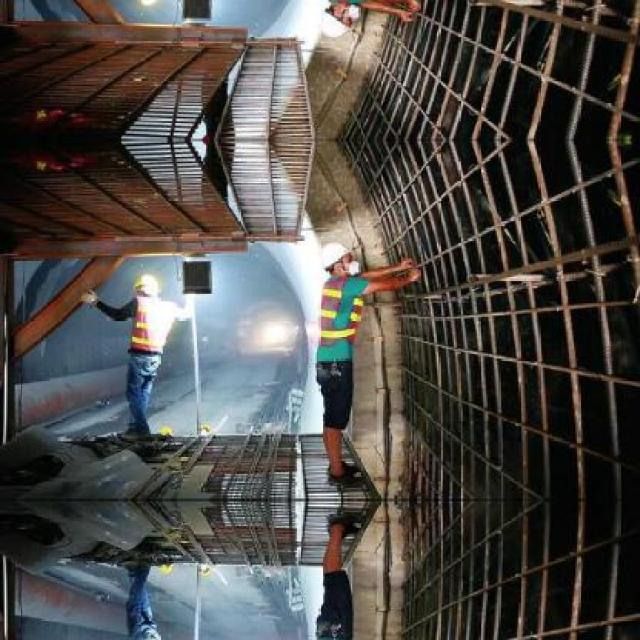helmet: (316, 240, 358, 277), (316, 0, 358, 37), (129, 270, 163, 302), (129, 0, 165, 8)
